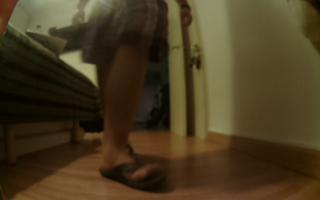person: (73, 1, 192, 191)
